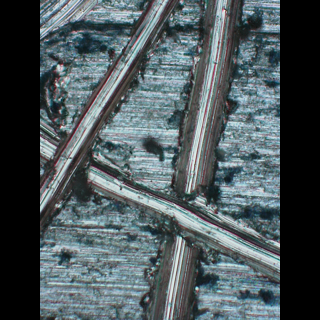d: (40, 110, 279, 289), (41, 0, 180, 237), (143, 0, 245, 317)
